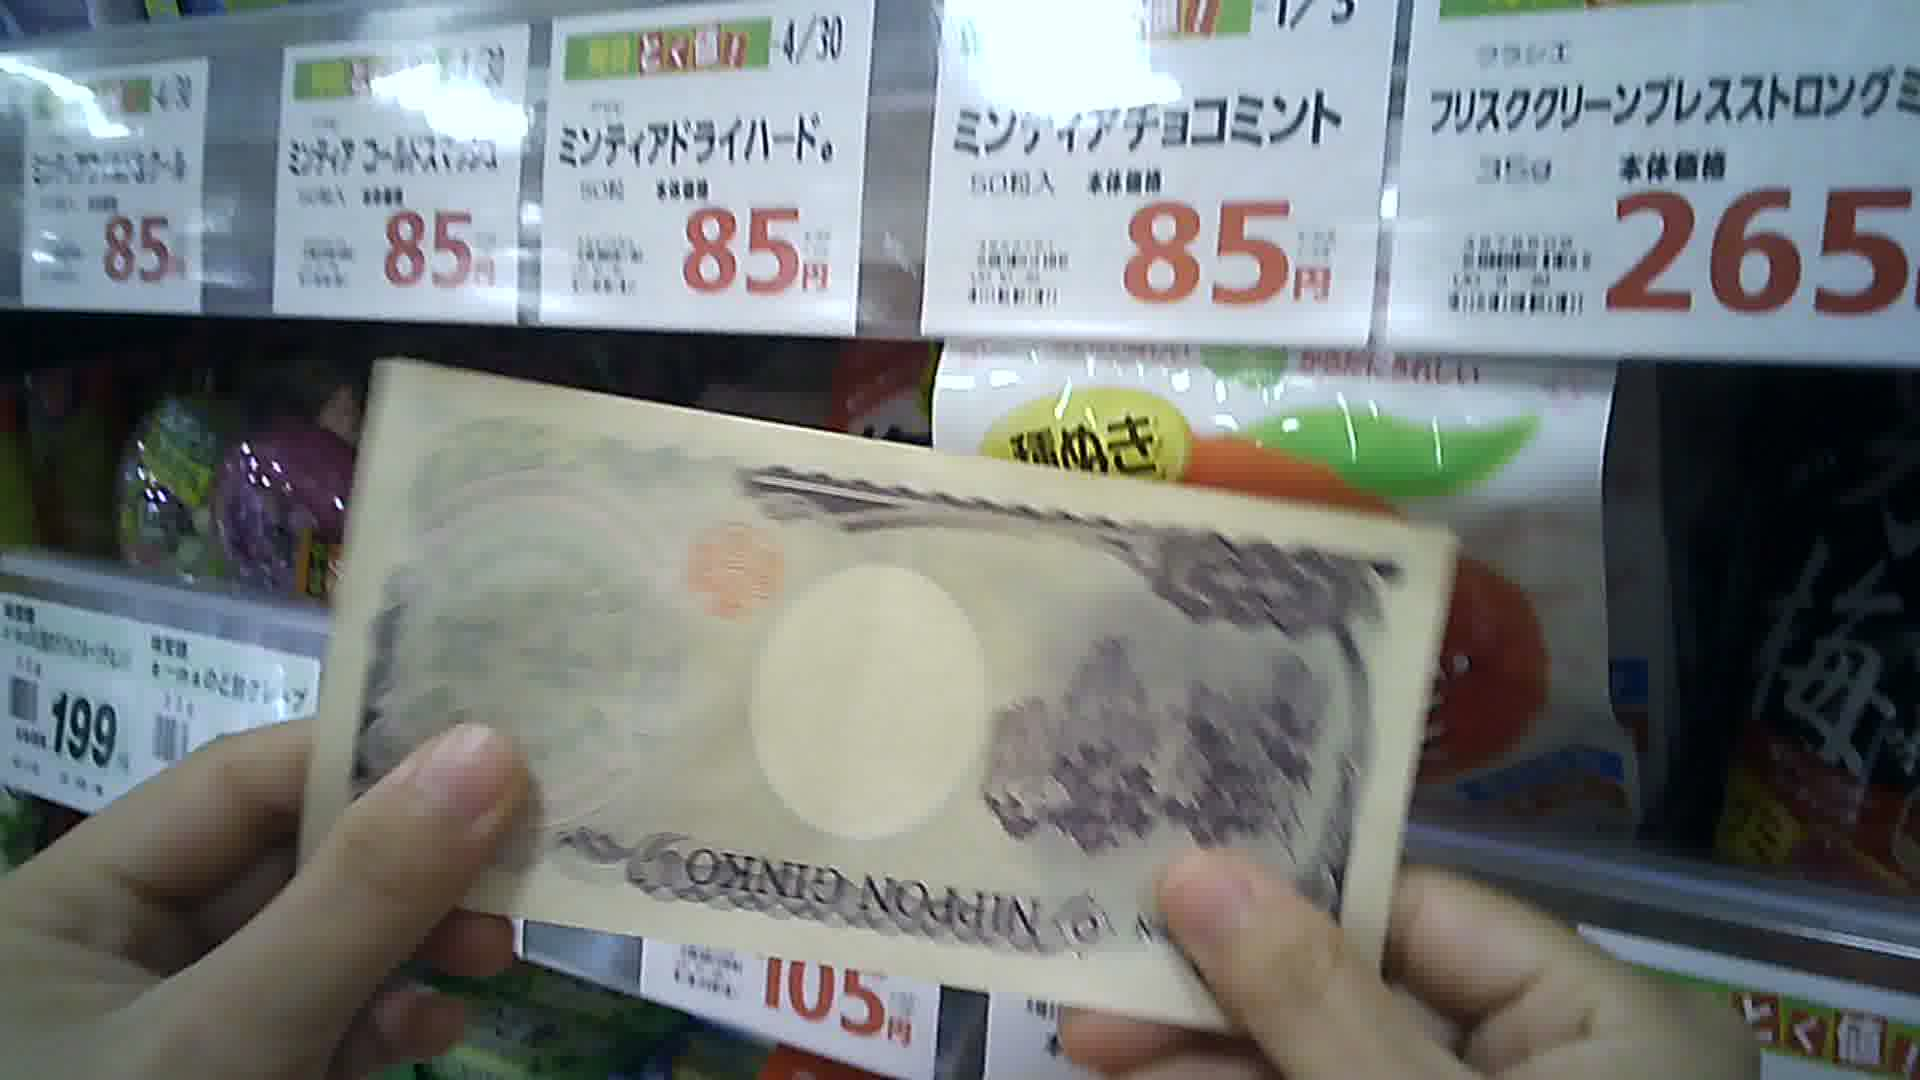5,000 Yen: (294, 355, 1443, 1034)
